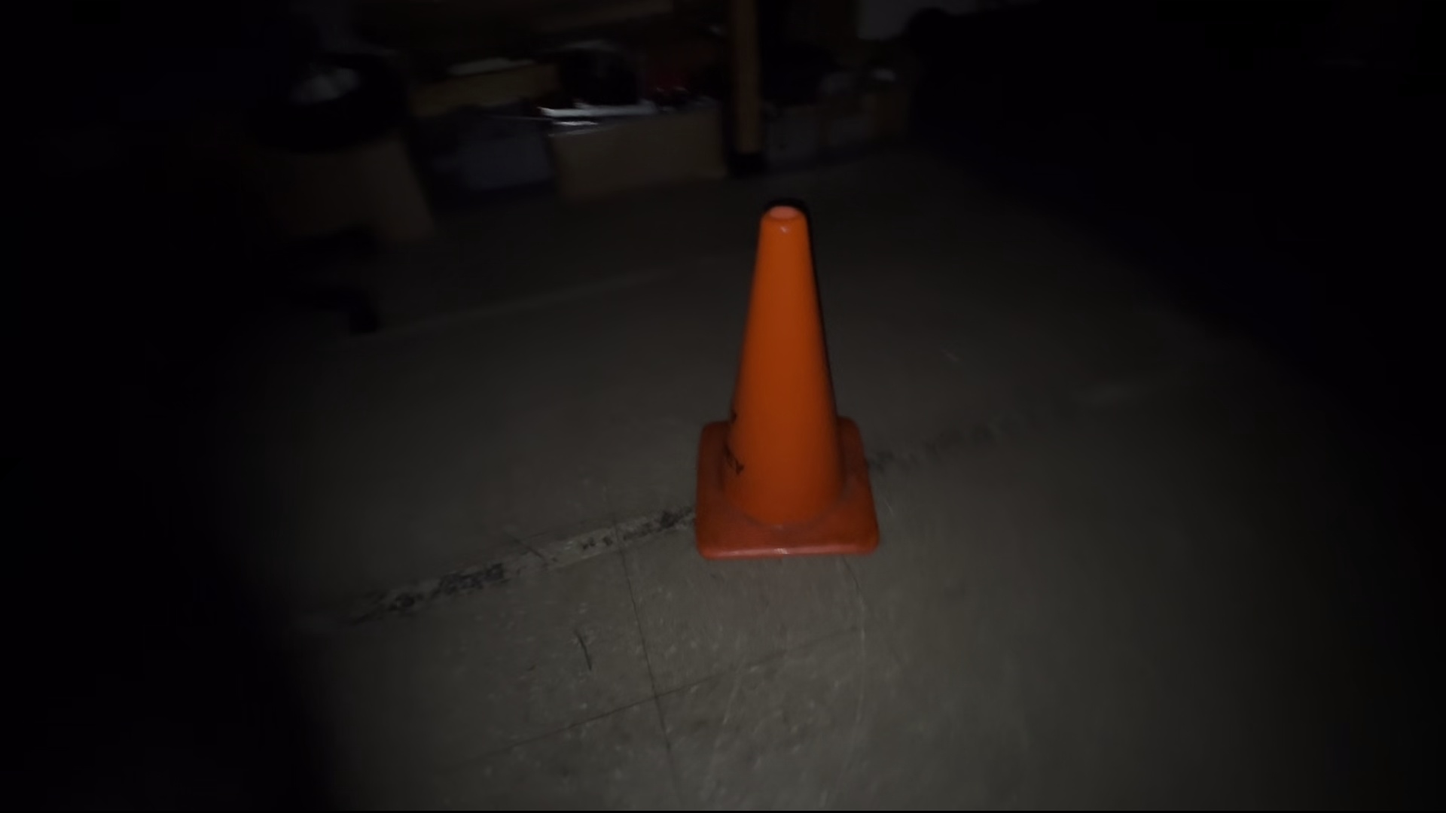traffic_cone: (693, 203, 880, 560)
